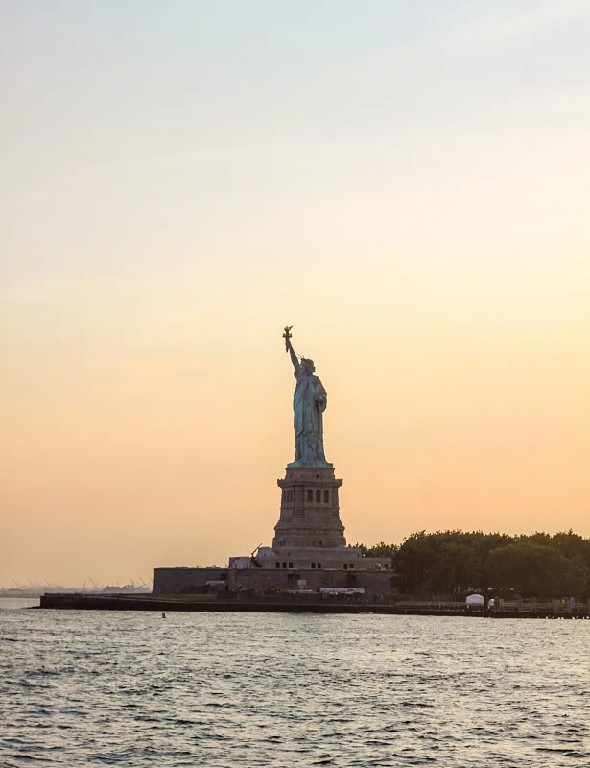SL: (271, 326, 347, 550)
